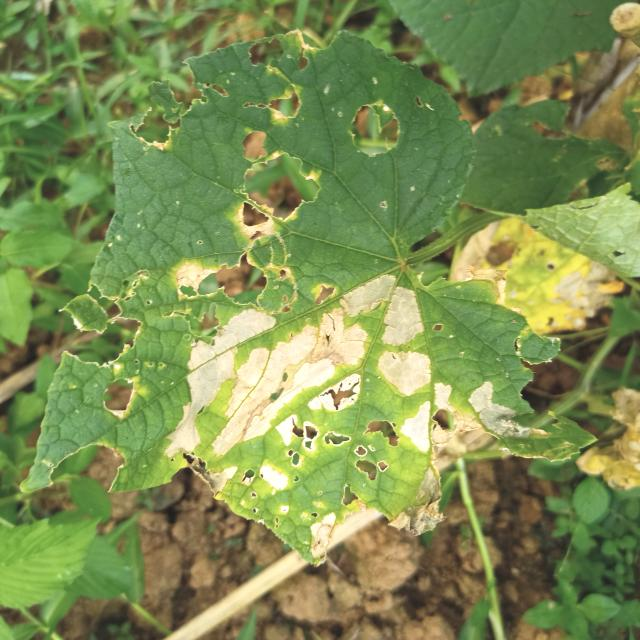disease_cucumber: (112, 252, 487, 526)
